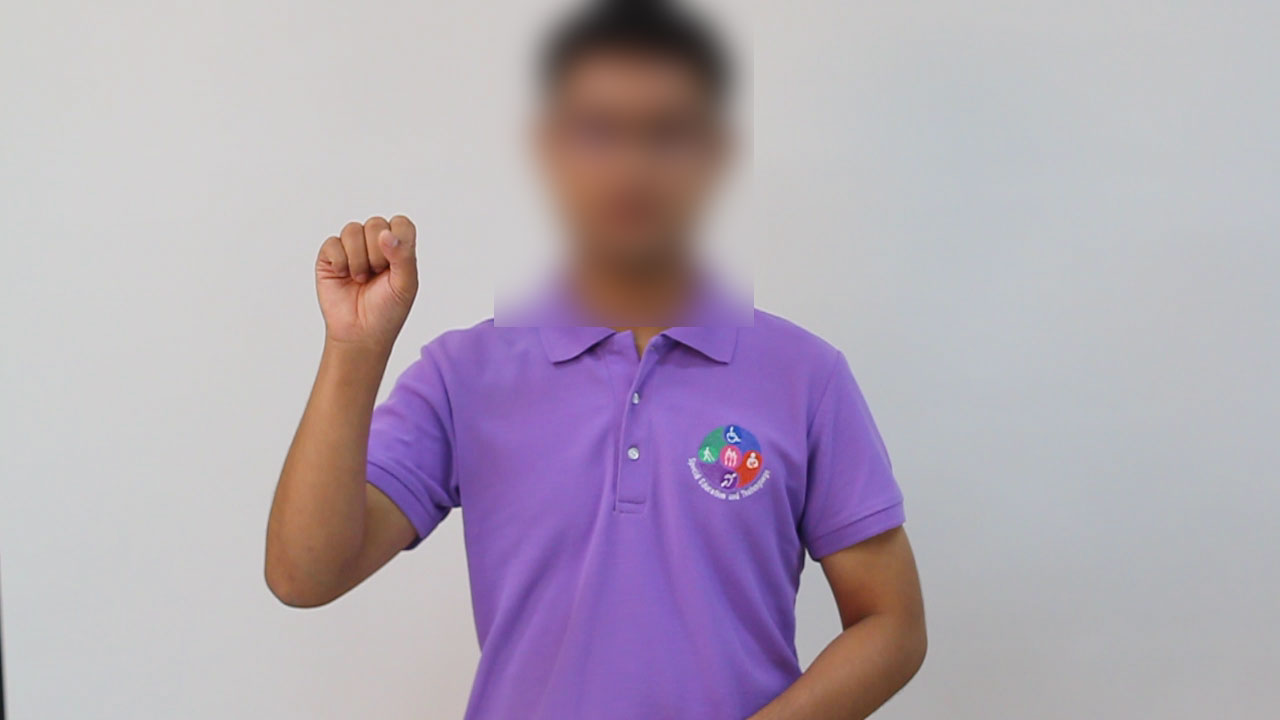sor: (299, 204, 433, 354)
